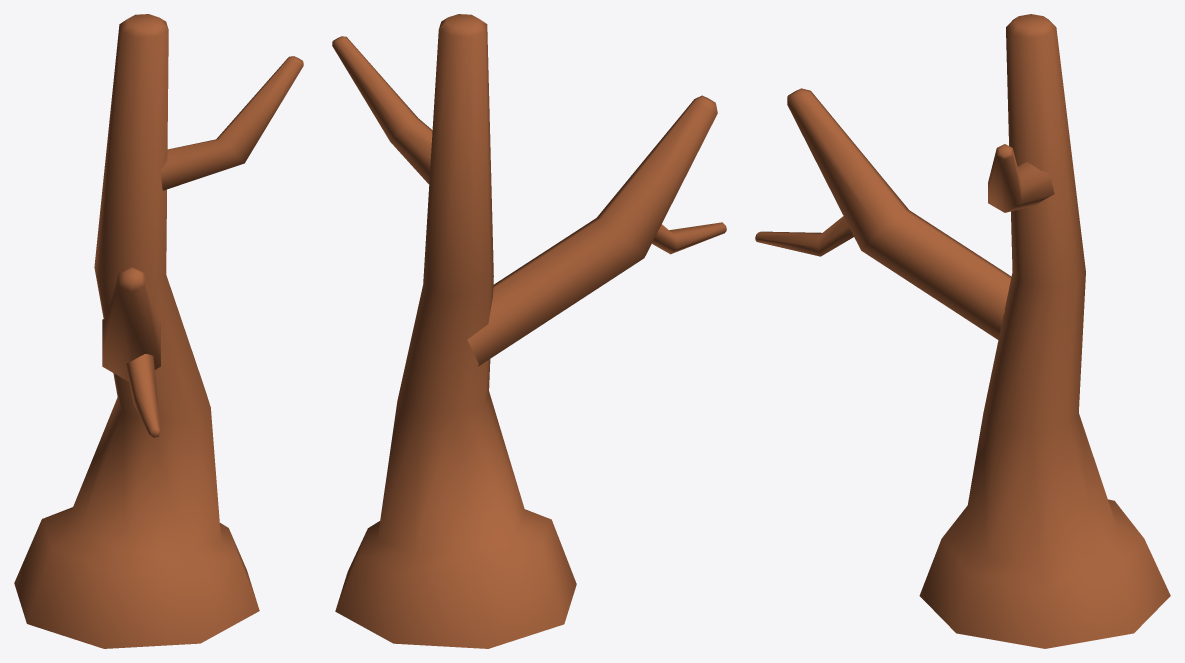
File: Tree_Bark_02.fbx
3 views of the same model, side by side, from view 1: azimuth 30°, elevation 25°; view 2: azimuth 150°, elevation 25°; view 3: azimuth 270°, elevation 25° (orthographic).
Parts seen in each view (by area): view 1: Tree_Bark_02; view 2: Tree_Bark_02; view 3: Tree_Bark_02.
Part boxes in pixels (x1,y1,x2,y2): Tree_Bark_02: [14, 14, 303, 648]; Tree_Bark_02: [332, 14, 726, 648]; Tree_Bark_02: [755, 14, 1170, 648].
Bounding box in the file's own units: 747 × 1441 × 945.
